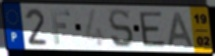2: (24, 7, 49, 47)
4: (84, 8, 107, 49)
A: (166, 11, 196, 48)
E: (137, 10, 168, 48)
F: (50, 9, 72, 46)
S: (107, 8, 136, 50)
